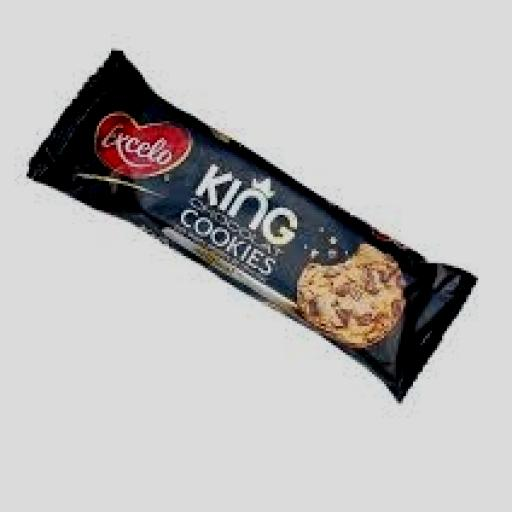king_cooking: (38, 28, 460, 380)
